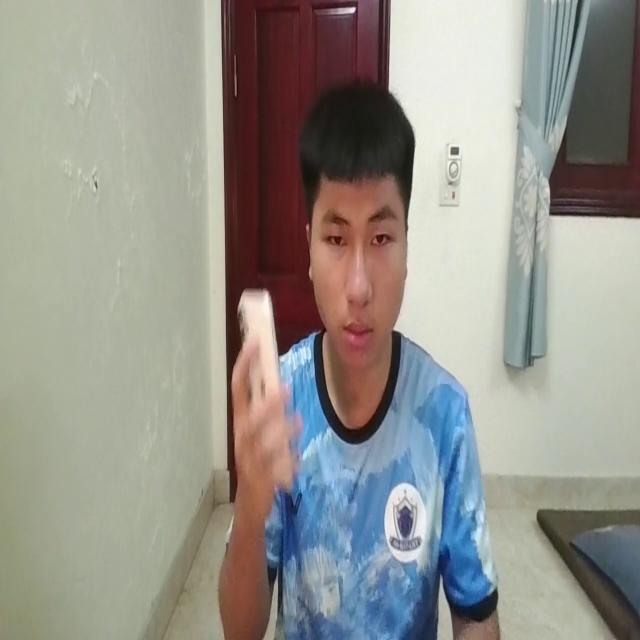phone: (238, 286, 296, 497)
student: (206, 70, 501, 640)
